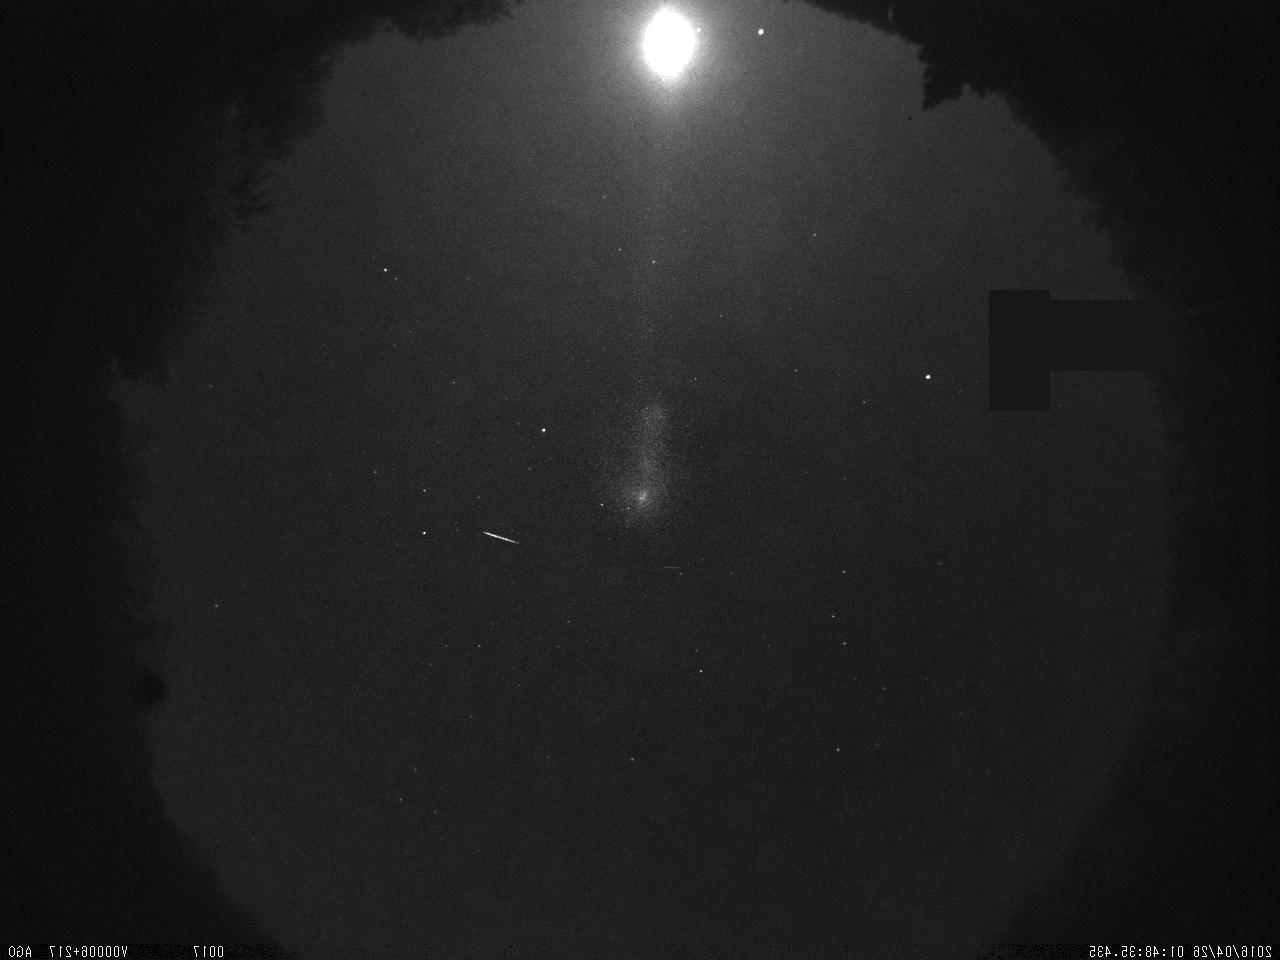meteor: (473, 525, 527, 551)
